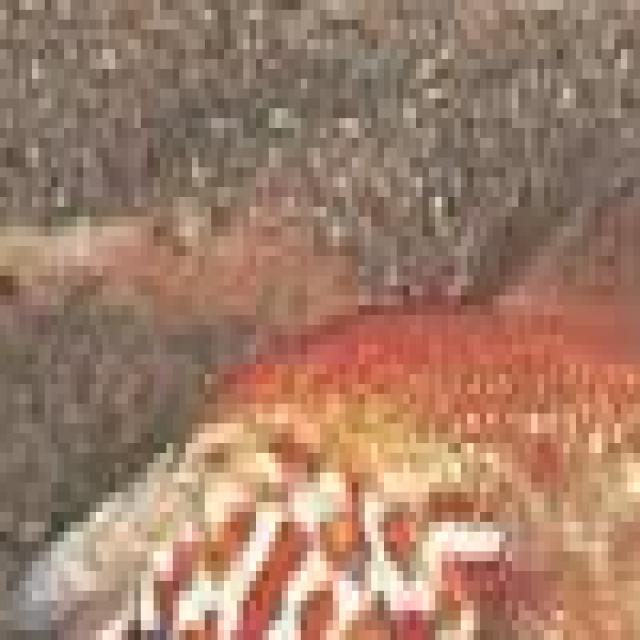fish: (0, 0, 634, 630)
